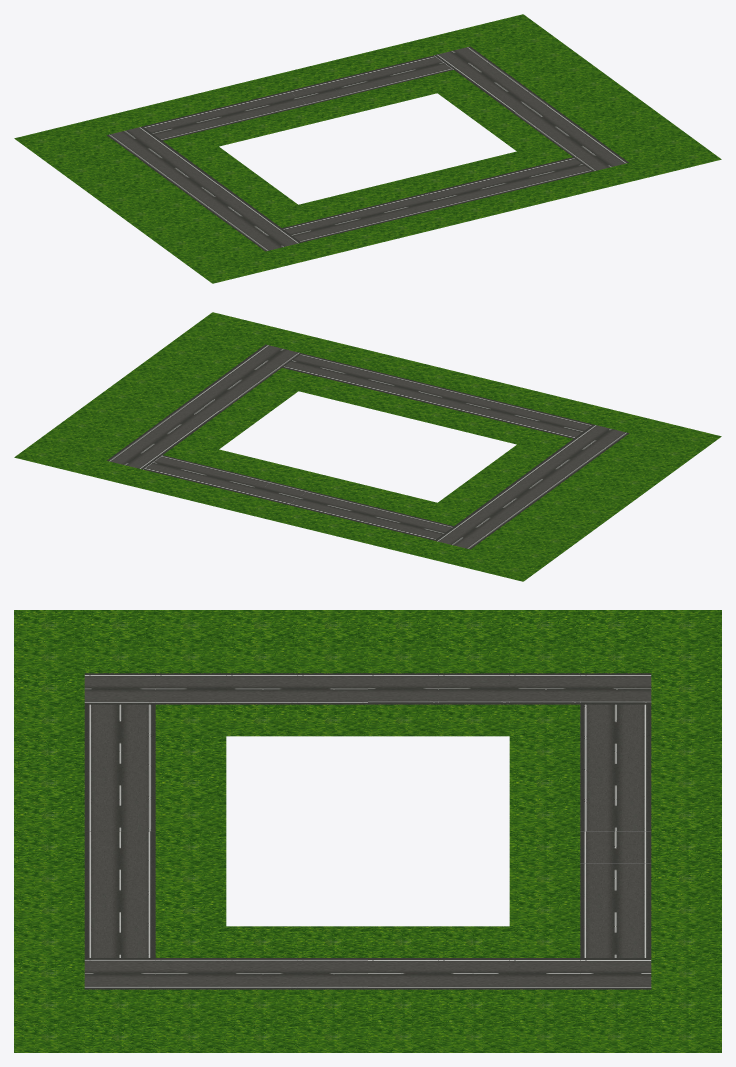
Rendered from Piso.obj.
3 renders of one model, top to bottom at view 1: azimuth 30°, elevation 25°; view 2: azimuth 150°, elevation 25°; view 3: azimuth 270°, elevation 25°, orthographic. The views are drawn at different scales.
Parts seen in each view (by area): view 1: polySurface46; view 2: polySurface46; view 3: polySurface46.
Boxes of the visible parts, bbox=[...] form: polySurface46: bbox=[14, 14, 721, 283]; polySurface46: bbox=[14, 312, 721, 581]; polySurface46: bbox=[14, 610, 721, 1052].
Size of the model in its own units: 421 by 0 by 284.
3 materials, 2 textured.
